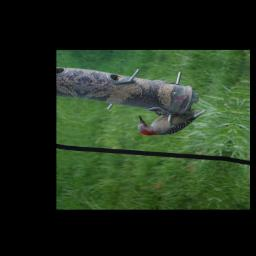Woodpecker: (134, 101, 208, 141)
